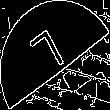L_SE: (33, 25, 77, 85)
